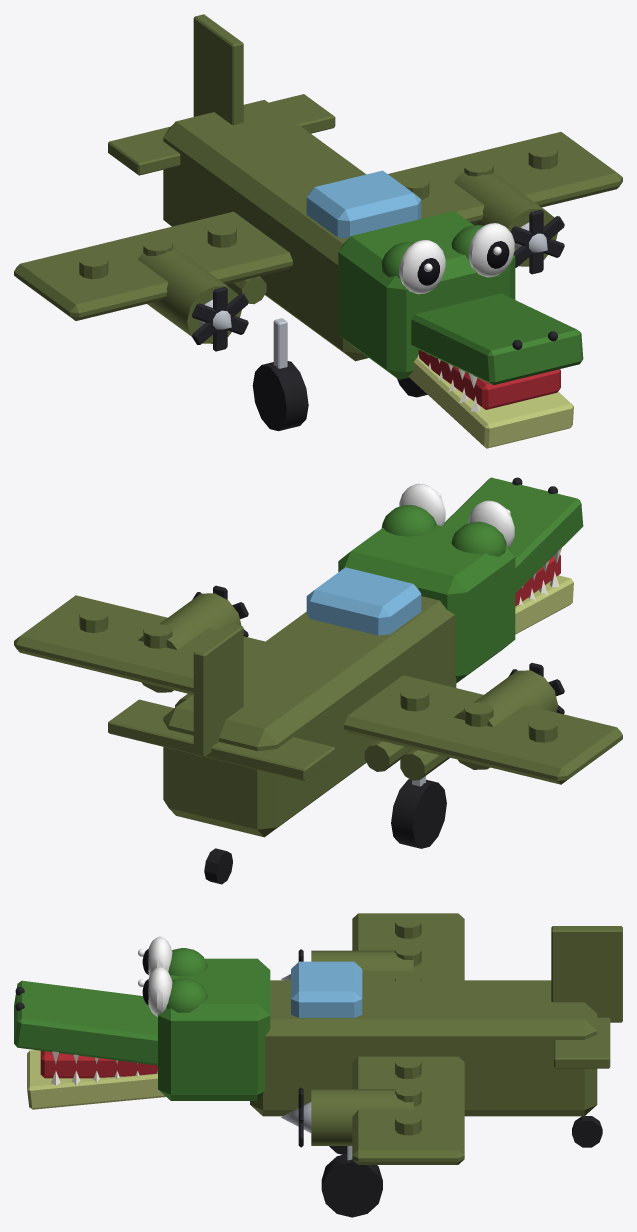
The model's file is Bombardiro.fbx.
3 renders of one model, top to bottom at view 1: azimuth 30°, elevation 25°; view 2: azimuth 150°, elevation 25°; view 3: azimuth 270°, elevation 25°, orthographic. The views are drawn at different scales.
Visible parts, largest first — view 1: Bombardiro_Fuselagem, Bombardiro_Asas, Bombardiro_Cabeca, Bombardiro_Focinho, Bombardiro_Mandibula, Bombardiro_Cabine, Bombardiro_Leme, Bombardiro_Motor, Bombardiro_Estabilizador, Bombardiro_Pinos, Bombardiro_Roda, Bombardiro_Dentro_Boca (+10 smaller); view 2: Bombardiro_Fuselagem, Bombardiro_Asas, Bombardiro_Cabeca, Bombardiro_Focinho, Bombardiro_Estabilizador, Bombardiro_Cabine, Bombardiro_Leme, Bombardiro_Pinos, Bombardiro_Roda, Bombardiro_Motor, Bombardiro_Motor_2, Bombardiro_Mandibula (+8 smaller); view 3: Bombardiro_Fuselagem, Bombardiro_Asas, Bombardiro_Cabeca, Bombardiro_Focinho, Bombardiro_Leme, Bombardiro_Cabine, Bombardiro_Mandibula, Bombardiro_Motor_2, Bombardiro_Roda_2, Bombardiro_Pinos, Bombardiro_Dentro_Boca, Bombardiro_Estabilizador (+7 smaller).
Part boxes in pixels (x1=…): Bombardiro_Fuselagem: x1=163, y1=100, x2=425, y2=361; Bombardiro_Asas: x1=14, y1=132, x2=622, y2=320; Bombardiro_Cabeca: x1=338, y1=211, x2=515, y2=379; Bombardiro_Focinho: x1=411, y1=293, x2=583, y2=385; Bombardiro_Mandibula: x1=408, y1=358, x2=573, y2=448; Bombardiro_Cabine: x1=306, y1=170, x2=421, y2=238; Bombardiro_Leme: x1=193, y1=14, x2=243, y2=124; Bombardiro_Motor: x1=138, y1=246, x2=241, y2=343; Bombardiro_Estabilizador: x1=108, y1=94, x2=335, y2=175; Bombardiro_Pinos: x1=79, y1=144, x2=557, y2=279; Bombardiro_Roda: x1=252, y1=361, x2=308, y2=431; Bombardiro_Dentro_Boca: x1=418, y1=350, x2=560, y2=409; Bombardiro_Fuselagem: x1=163, y1=596, x2=456, y2=837; Bombardiro_Asas: x1=14, y1=595, x2=622, y2=784; Bombardiro_Cabeca: x1=338, y1=525, x2=515, y2=683; Bombardiro_Focinho: x1=443, y1=477, x2=583, y2=593; Bombardiro_Estabilizador: x1=108, y1=699, x2=335, y2=780; Bombardiro_Cabine: x1=306, y1=567, x2=421, y2=635; Bombardiro_Leme: x1=193, y1=624, x2=243, y2=757; Bombardiro_Pinos: x1=79, y1=608, x2=557, y2=742; Bombardiro_Roda: x1=391, y1=779, x2=446, y2=848; Bombardiro_Motor: x1=454, y1=670, x2=558, y2=769; Bombardiro_Motor_2: x1=138, y1=593, x2=241, y2=692; Bombardiro_Mandibula: x1=515, y1=575, x2=573, y2=634; Bombardiro_Fuselagem: x1=250, y1=980, x2=597, y2=1116; Bombardiro_Asas: x1=352, y1=913, x2=464, y2=1164; Bombardiro_Cabeca: x1=158, y1=958, x2=270, y2=1100; Bombardiro_Focinho: x1=14, y1=980, x2=157, y2=1065; Bombardiro_Leme: x1=551, y1=926, x2=622, y2=1022; Bombardiro_Cabine: x1=291, y1=961, x2=362, y2=1017; Bombardiro_Mandibula: x1=27, y1=1050, x2=165, y2=1109; Bombardiro_Motor_2: x1=311, y1=1089, x2=413, y2=1145; Bombardiro_Roda_2: x1=321, y1=1154, x2=382, y2=1217; Bombardiro_Pinos: x1=395, y1=917, x2=421, y2=1135; Bombardiro_Dentro_Boca: x1=40, y1=1050, x2=157, y2=1078; Bombardiro_Estabilizador: x1=554, y1=1017, x2=610, y2=1068.
Size of the model in its own units: 157 by 77 by 167.
